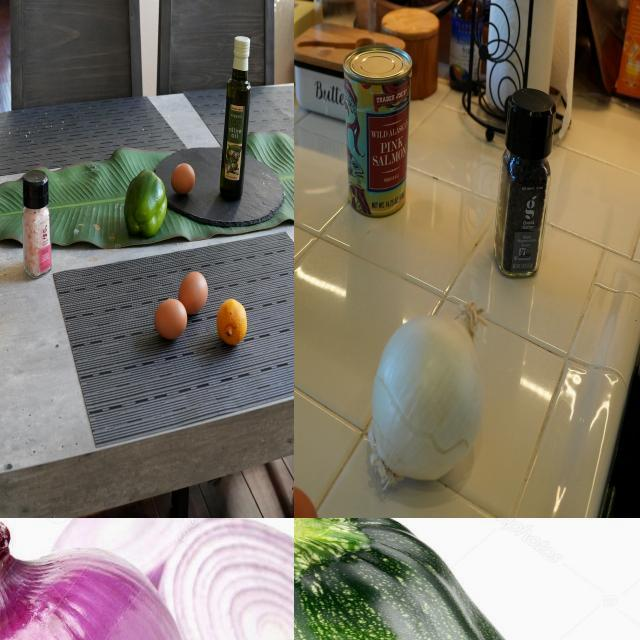bell_pepper: (493, 89, 557, 277), (122, 167, 172, 242)
egg: (158, 298, 188, 344), (170, 160, 200, 200), (179, 271, 207, 311)
onion: (364, 298, 494, 514), (1, 519, 199, 640), (40, 519, 229, 640), (159, 519, 295, 640)
zucchini: (295, 519, 640, 640)
